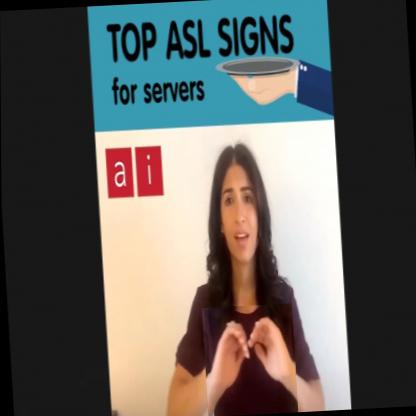HowAreYou: (201, 302, 296, 416)
